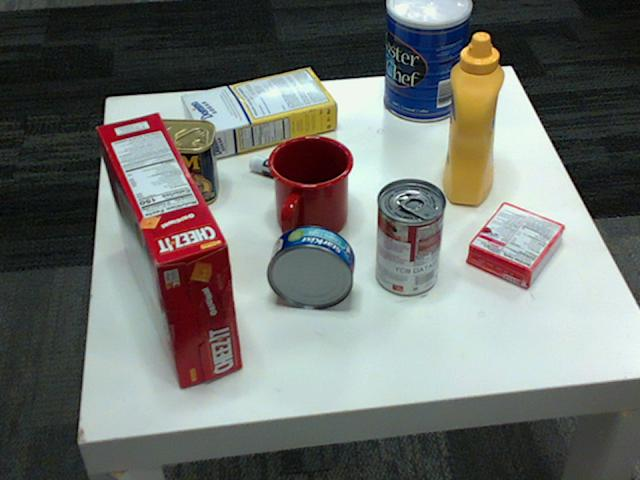cracker_box: (95, 112, 243, 385)
gelatin_box: (467, 202, 565, 288)
large_marker: (248, 158, 343, 196)
master_chef_can: (382, 0, 470, 121)
mug: (268, 132, 355, 237)
mustard_bottle: (442, 33, 504, 204)
potted_meat_can: (120, 120, 219, 206)
sugar_box: (182, 67, 338, 158)
tomato_soup_can: (376, 178, 445, 295)
tuna_fish_can: (268, 225, 356, 308)
